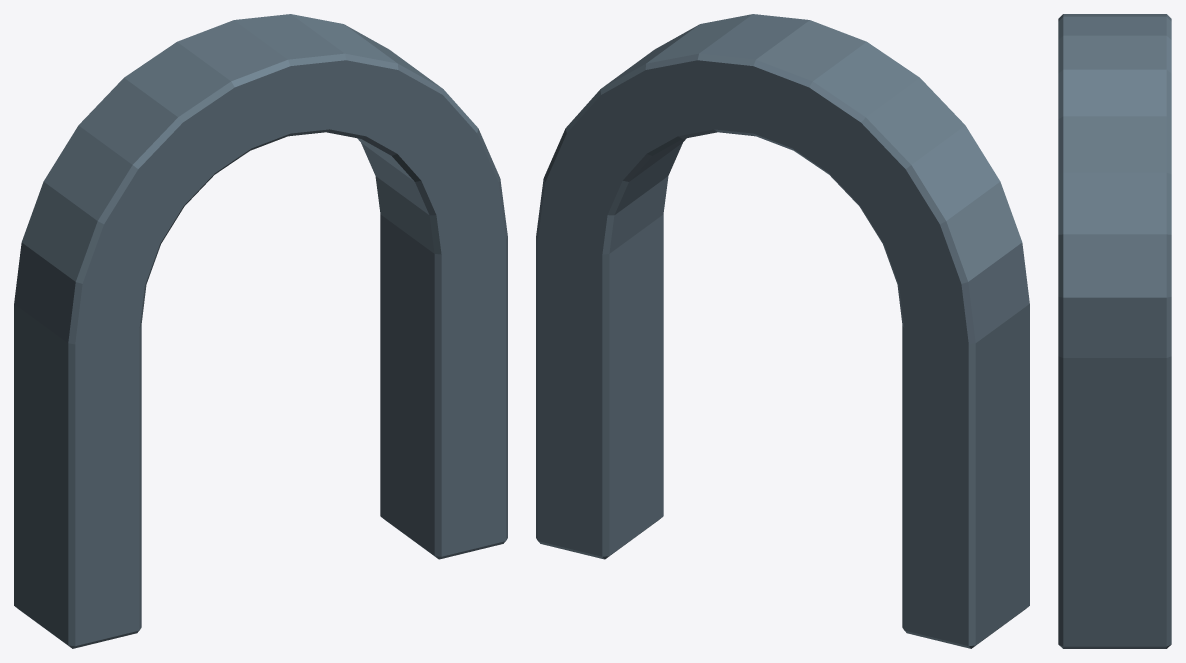
File: P16_Arch.fbx
3 renders of one model, left to right at view 1: azimuth 30°, elevation 25°; view 2: azimuth 150°, elevation 25°; view 3: azimuth 270°, elevation 25°, orthographic. The views are drawn at different scales.
Parts seen in each view (by area): view 1: P16_Arch; view 2: P16_Arch; view 3: P16_Arch.
Boxes of the visible parts, x1=… form: P16_Arch: x1=14, y1=14, x2=507, y2=648; P16_Arch: x1=536, y1=14, x2=1029, y2=648; P16_Arch: x1=1058, y1=14, x2=1171, y2=648.
Size of the model in its own units: 1.5 by 1.75 by 0.35.
1 material, 1 textured.
